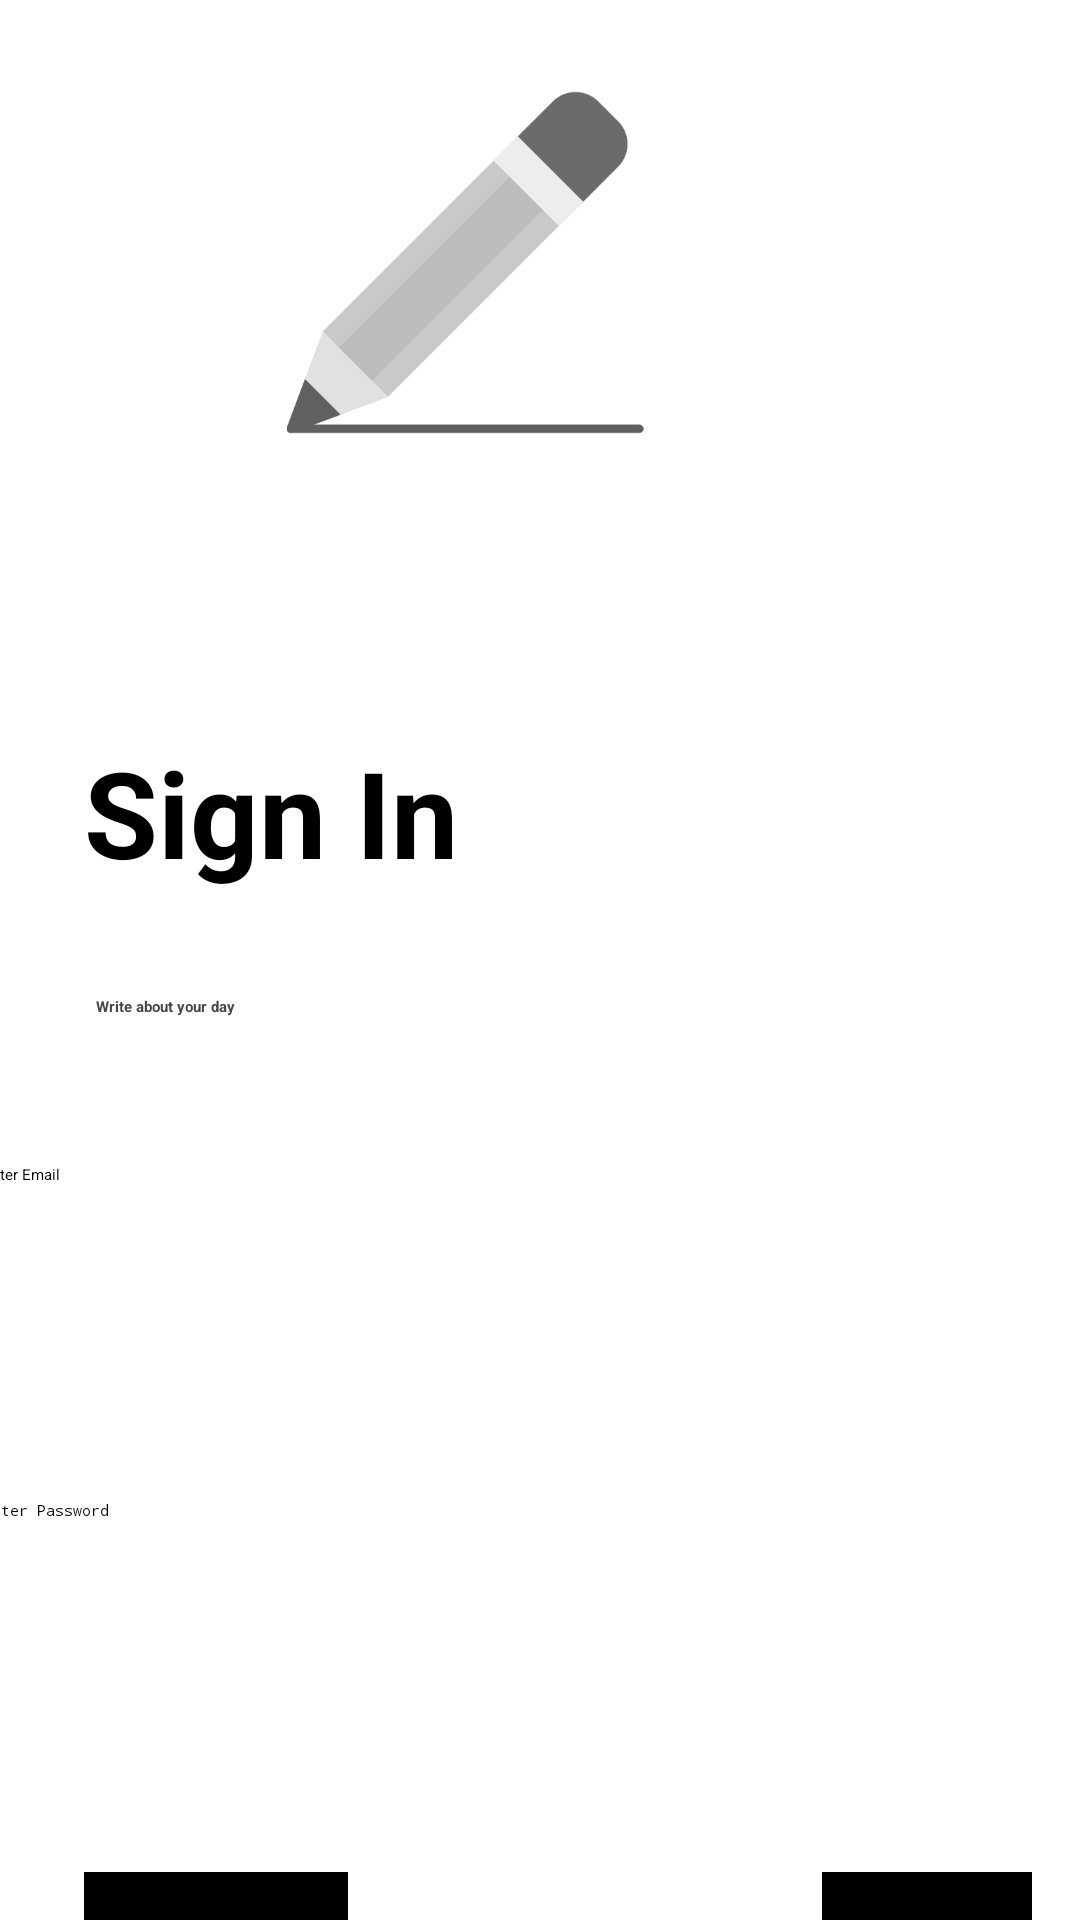

Icons on this 1080 x 1920 Android screen, each with the point to tap as (x,y):
pencil: (465,263)
